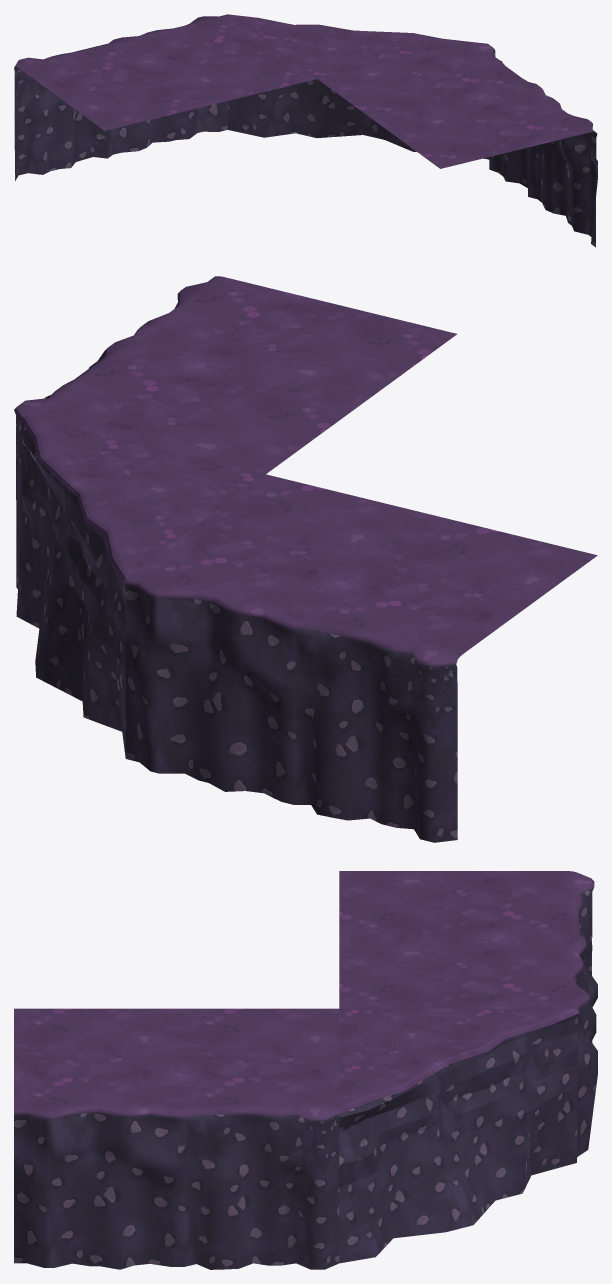
Rendered from angle_externe.fbx.
The picture shows the model from 3 angles, top to bottom: view 1: azimuth 30°, elevation 25°; view 2: azimuth 150°, elevation 25°; view 3: azimuth 270°, elevation 25°; orthographic projection. The views are drawn at different scales.
Parts seen in each view (by area): view 1: trottoir22; view 2: trottoir22; view 3: trottoir22.
Boxes of the visible parts, x1,y1,x2,y2 form: trottoir22: (14,14,597,247); trottoir22: (14,276,597,842); trottoir22: (14,871,597,1269).
Size of the model in its own units: 133 by 38.74 by 133.
